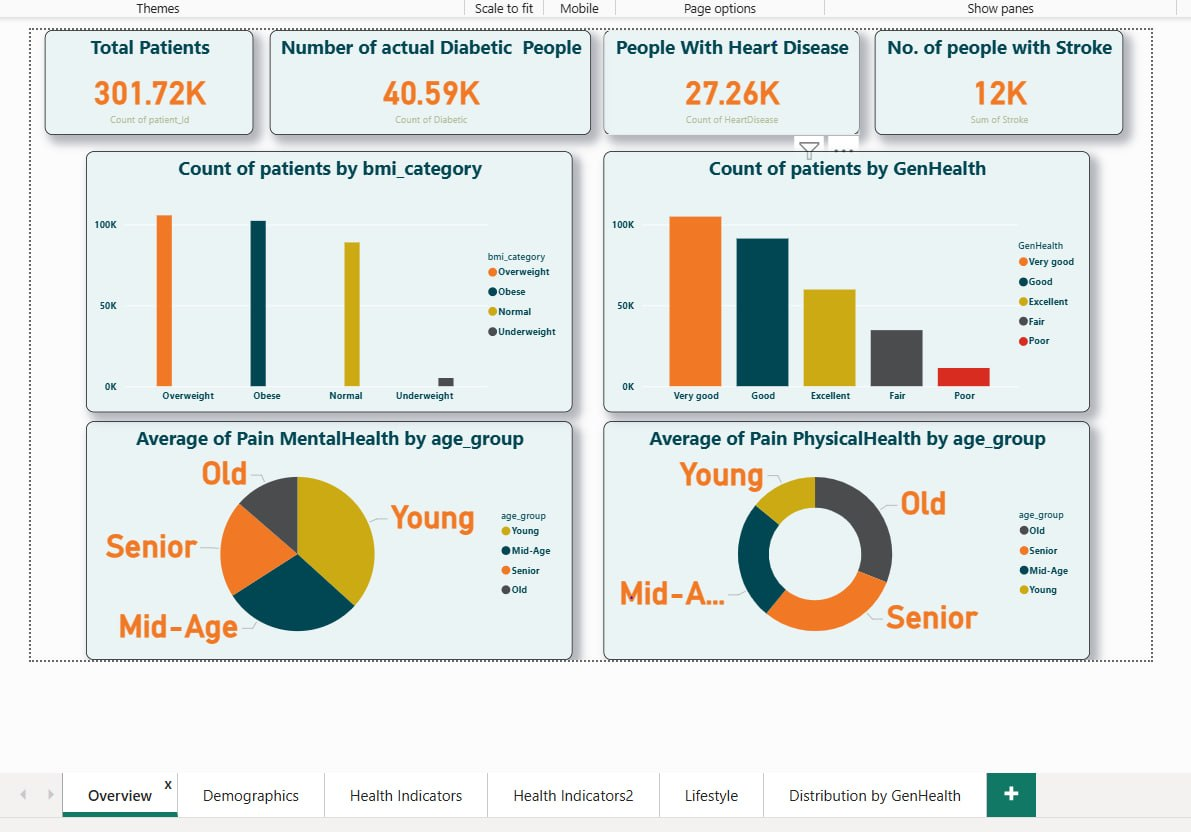

This screenshot's page, from the dashboard's own definition file:
{"tool":"powerbi","page":{"name":"Overview","canvas":[1280,720],"ordinal":0},"visuals":[{"type":"card","title":"Total Patients","fields":{"Values":["CountNonNull(heart_disease_transformed.patient_Id)"]},"box":[15,0,238.8,120],"z":0},{"type":"card","title":"Number of actual Diabetic  People","fields":{"Values":["CountNonNull(heart_disease_transformed.Diabetic)"]},"box":[272.5,0,367.5,120],"z":1000},{"type":"card","title":"People With Heart Disease","fields":{"Values":["CountNonNull(heart_disease_transformed.HeartDisease)"]},"box":[655,0,292.5,120],"z":2000},{"type":"card","title":"No. of people with Stroke ","fields":{"Values":["Sum(heart_disease_transformed.Stroke)"]},"box":[963.8,0,283.8,120],"z":3000},{"type":"clusteredColumnChart","title":"Count of patients by bmi_category ","fields":{"Category":["heart_disease_transformed.bmi_category"],"Series":["heart_disease_transformed.bmi_category"],"Y":["CountNonNull(heart_disease_transformed.patient_Id)"]},"box":[62.5,138.8,556.2,298.8],"z":4000},{"type":"columnChart","title":"Count of patients by GenHealth ","fields":{"Series":["heart_disease_transformed.GenHealth"],"Category":["heart_disease_transformed.GenHealth"],"Y":["CountNonNull(heart_disease_transformed.patient_Id)"]},"box":[655,138.8,556.2,298.8],"z":5000},{"type":"pieChart","title":"Average of Pain MentalHealth by age_group","fields":{"Y":["Avg(heart_disease_transformed.MentalHealth)"],"Category":["heart_disease_transformed.age_group"]},"box":[63.1,447.3,555.7,273.1],"z":6000},{"type":"donutChart","title":"Average of Pain PhysicalHealth by age_group","fields":{"Category":["heart_disease_transformed.age_group"],"Y":["Avg(heart_disease_transformed.PhysicalHealth)"]},"box":[655,447,556,273],"z":7000}]}

Visuals, with their boxes on the page's 1280x720 design canvas (x1, y1, x2, y2). These are canvas units, not pixel positions in the 1191x832 screenshot, which may show the page scaled, cropped or inside an application window:
"Total Patients" card: bbox(15, 0, 254, 120)
"Number of actual Diabetic  People" card: bbox(272, 0, 640, 120)
"People With Heart Disease" card: bbox(655, 0, 948, 120)
"No. of people with Stroke " card: bbox(964, 0, 1248, 120)
"Count of patients by bmi_category " clusteredColumnChart: bbox(62, 139, 619, 438)
"Count of patients by GenHealth " columnChart: bbox(655, 139, 1211, 438)
"Average of Pain MentalHealth by age_group" pieChart: bbox(63, 447, 619, 720)
"Average of Pain PhysicalHealth by age_group" donutChart: bbox(655, 447, 1211, 720)
